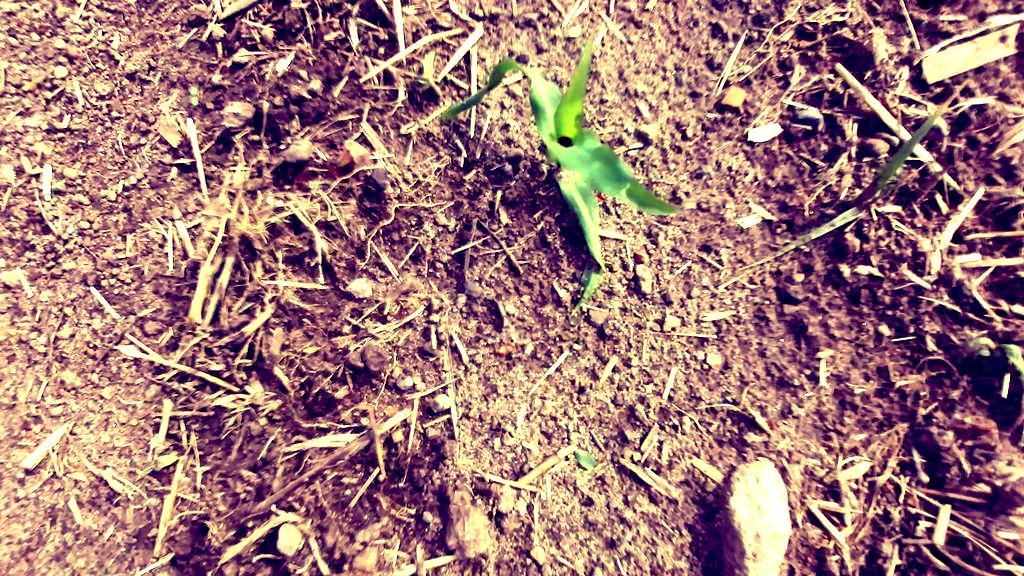BroWeed: (130, 447, 180, 485), (410, 47, 442, 104), (933, 117, 956, 153), (570, 445, 598, 472), (562, 23, 583, 39), (188, 85, 199, 106), (975, 346, 992, 358), (946, 184, 955, 192)
Maize: (432, 4, 725, 317)
NarWeed: (738, 78, 992, 298)
